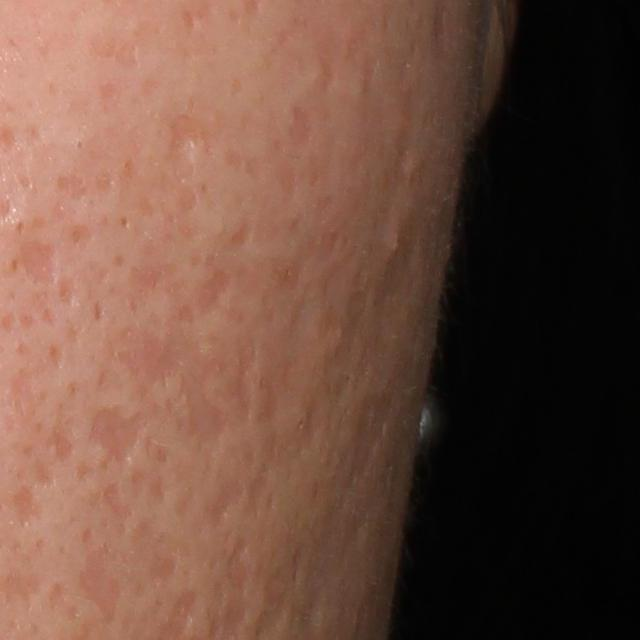atrophic_scar: (134, 331, 233, 453), (83, 403, 159, 469), (80, 546, 120, 625), (17, 232, 65, 292), (236, 334, 258, 424), (195, 269, 233, 317), (210, 482, 248, 523), (226, 215, 265, 250), (219, 597, 251, 637), (227, 539, 250, 594), (103, 480, 133, 521), (12, 488, 46, 524), (49, 422, 77, 464), (146, 551, 177, 586)
